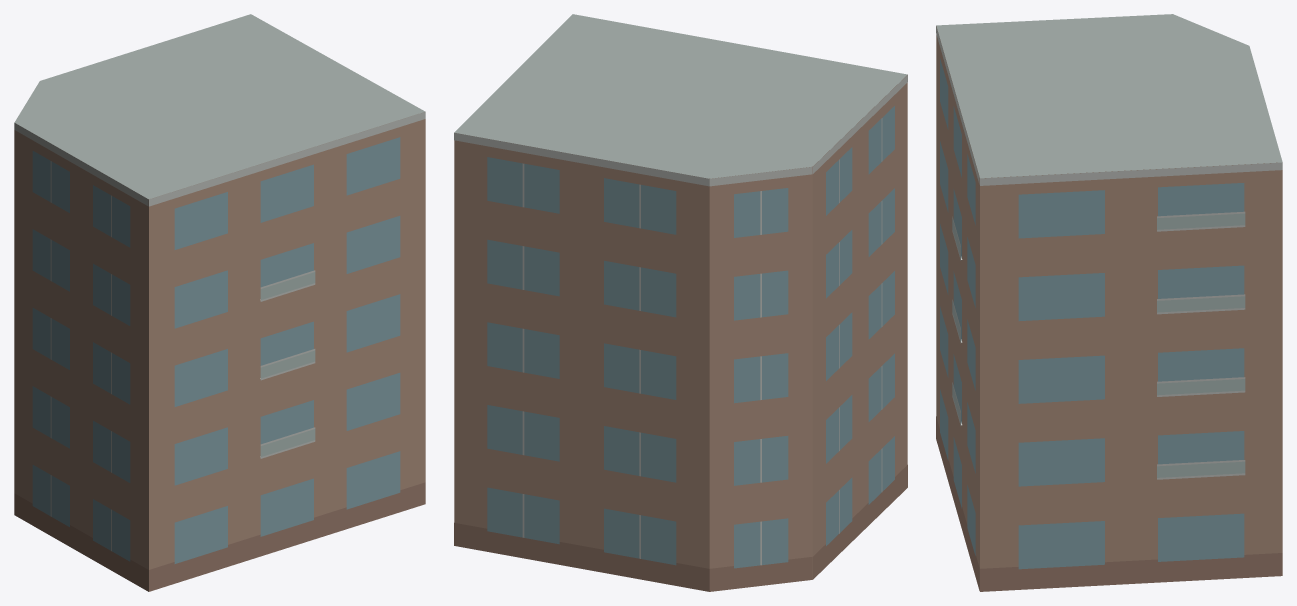
Rendered from survey-upis-32967181.glb.
3 renders of one model, left to right at view 1: azimuth 30°, elevation 25°; view 2: azimuth 150°, elevation 25°; view 3: azimuth 270°, elevation 25°, orthographic. The views are drawn at different scales.
Visible parts, largest first — view 1: survey-upis-32967181.tmp; view 2: survey-upis-32967181.tmp; view 3: survey-upis-32967181.tmp.
Part boxes in pixels (<box>): survey-upis-32967181.tmp: <box>14,14,425,591</box>; survey-upis-32967181.tmp: <box>454,14,907,591</box>; survey-upis-32967181.tmp: <box>936,14,1282,591</box>.
Size of the model in its own units: 11.26 by 13.2 by 10.04.
